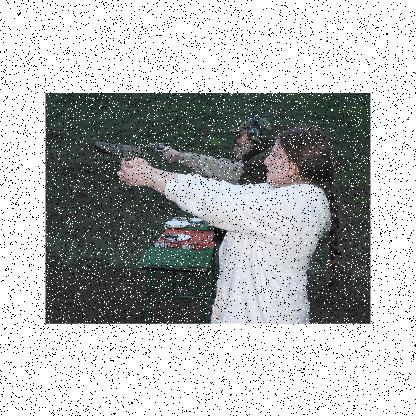gun: (90, 140, 144, 184), (144, 140, 170, 160)
